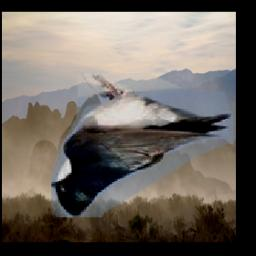Swallow: (50, 73, 232, 217)
